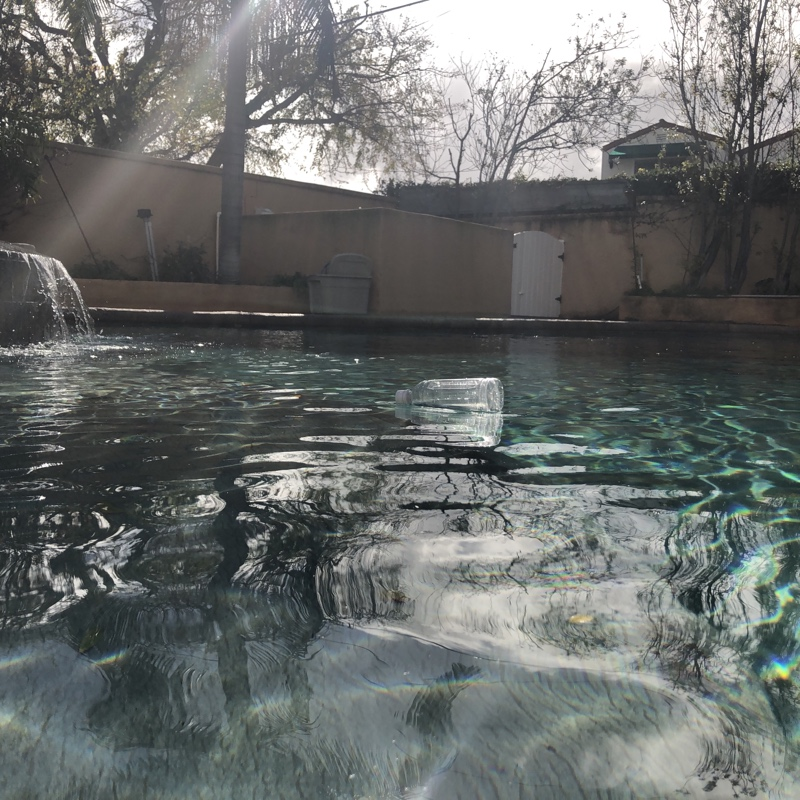Plastic Bottle: (393, 371, 505, 420)
